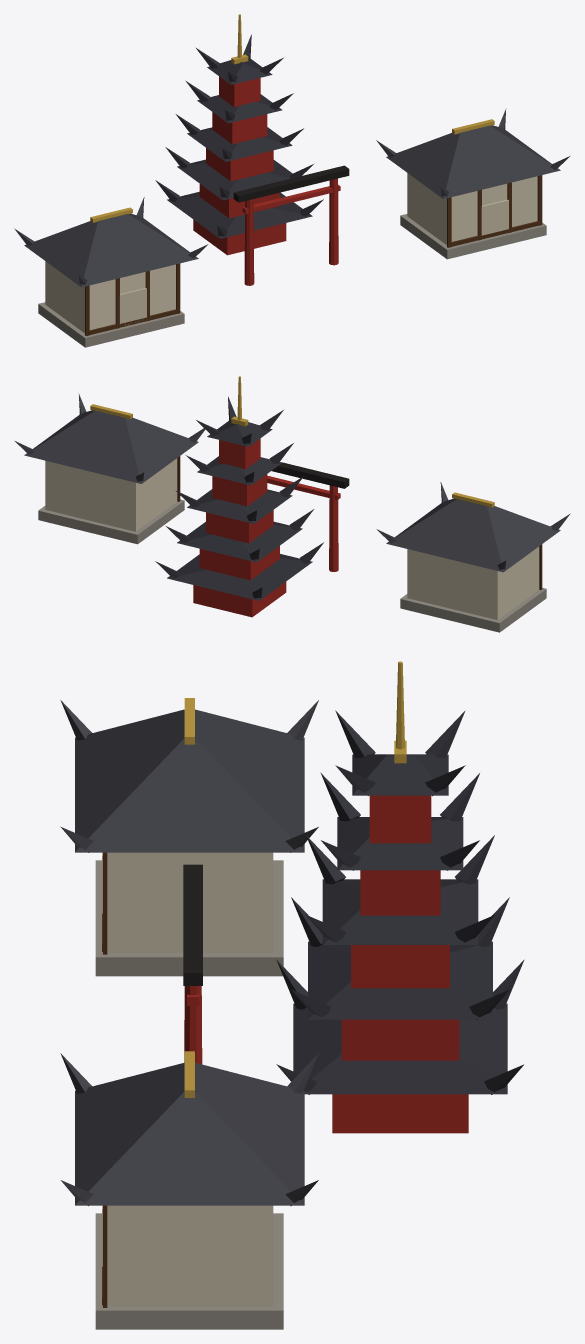
Rendered from macaque_court.glb.
3 views of the same model, one above another, from view 1: azimuth 30°, elevation 25°; view 2: azimuth 150°, elevation 25°; view 3: azimuth 270°, elevation 25° (orthographic). The views are drawn at different scales.
Parts seen in each view (by area): view 1: macaque_court; view 2: macaque_court; view 3: macaque_court.
Boxes of the visible parts, x1=… form: macaque_court: x1=14, y1=14, x2=569, y2=347; macaque_court: x1=15, y1=376, x2=570, y2=632; macaque_court: x1=60, y1=661, x2=524, y2=1329.
Size of the model in its own units: 6.53 by 2.8 by 2.67.
